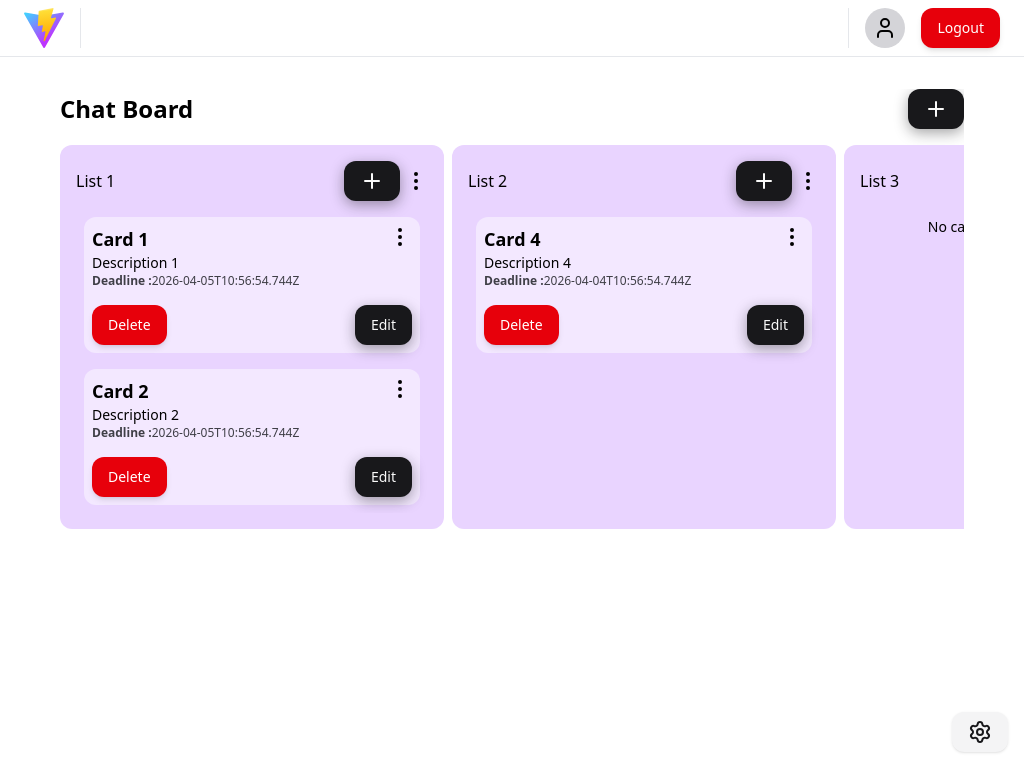
Test: Delete Content › Should delete the list
Expected: the heading "Chat Board" is shown, top-left (60, 93), bottom-right (193, 125)
Expected: the element named "Board Content" shows "List 1", top-left (76, 170), bottom-right (115, 192)
Click the button named "options" in the row of "List 1".
click(416, 181)  # box top-left (404, 161), bottom-right (428, 201)
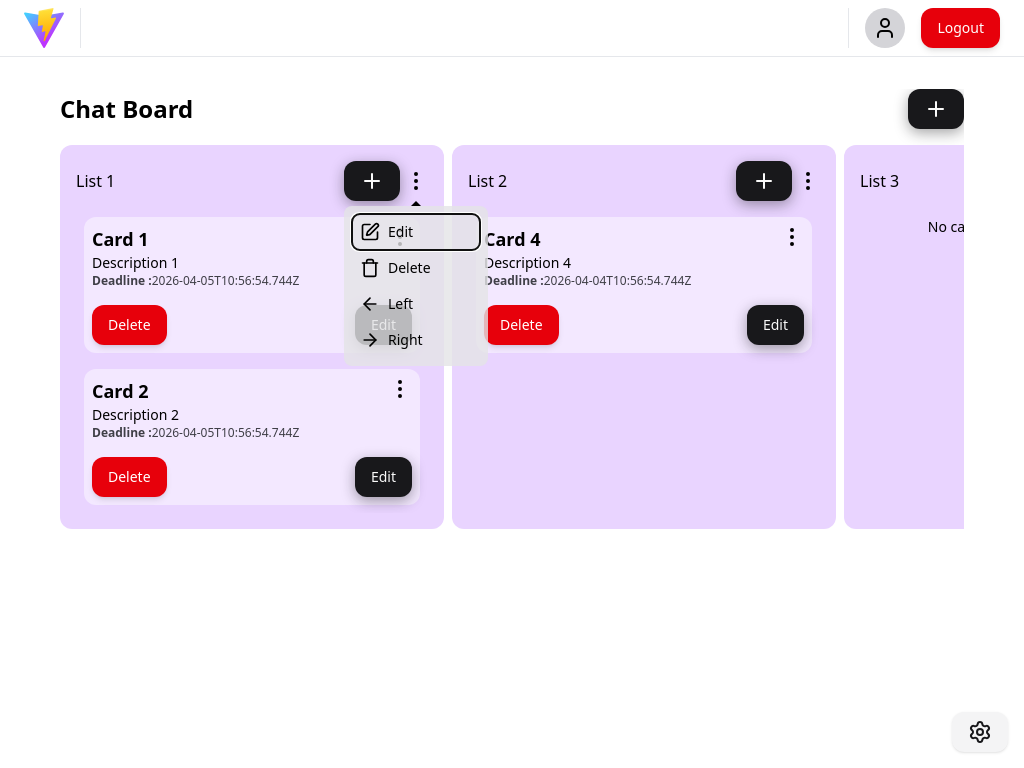
Click the 1st button "Delete".
click(416, 268)  # box top-left (352, 250), bottom-right (480, 286)
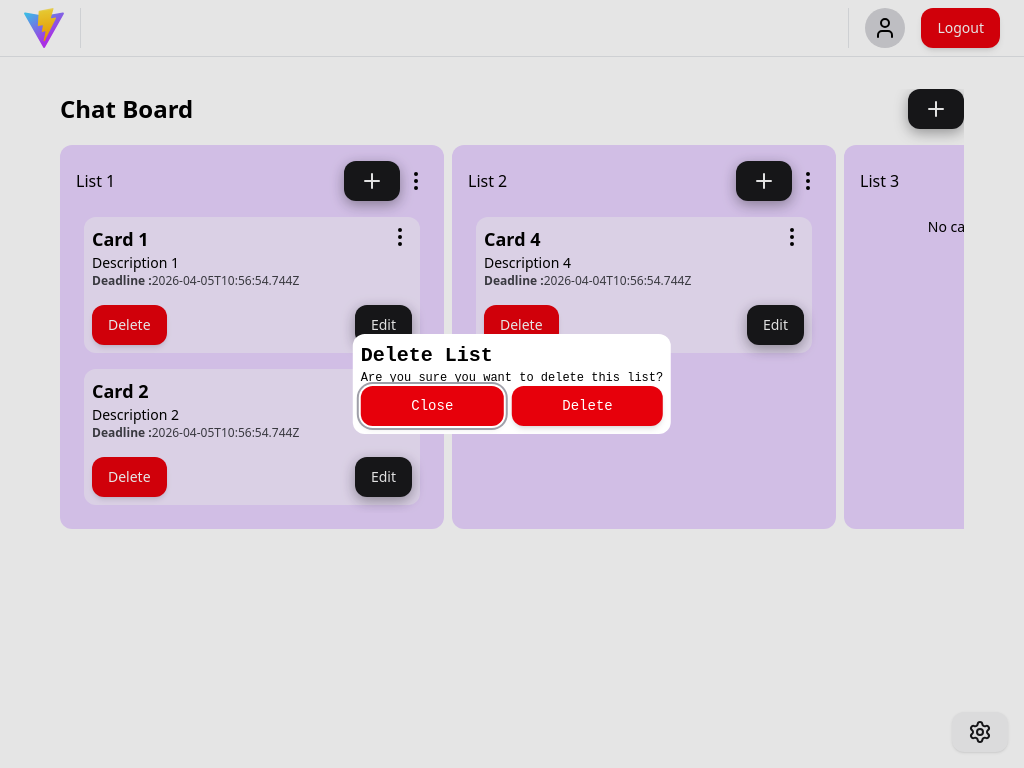
Click the button with aria-label "form-operation-button".
click(588, 406)  # box top-left (512, 386), bottom-right (663, 426)
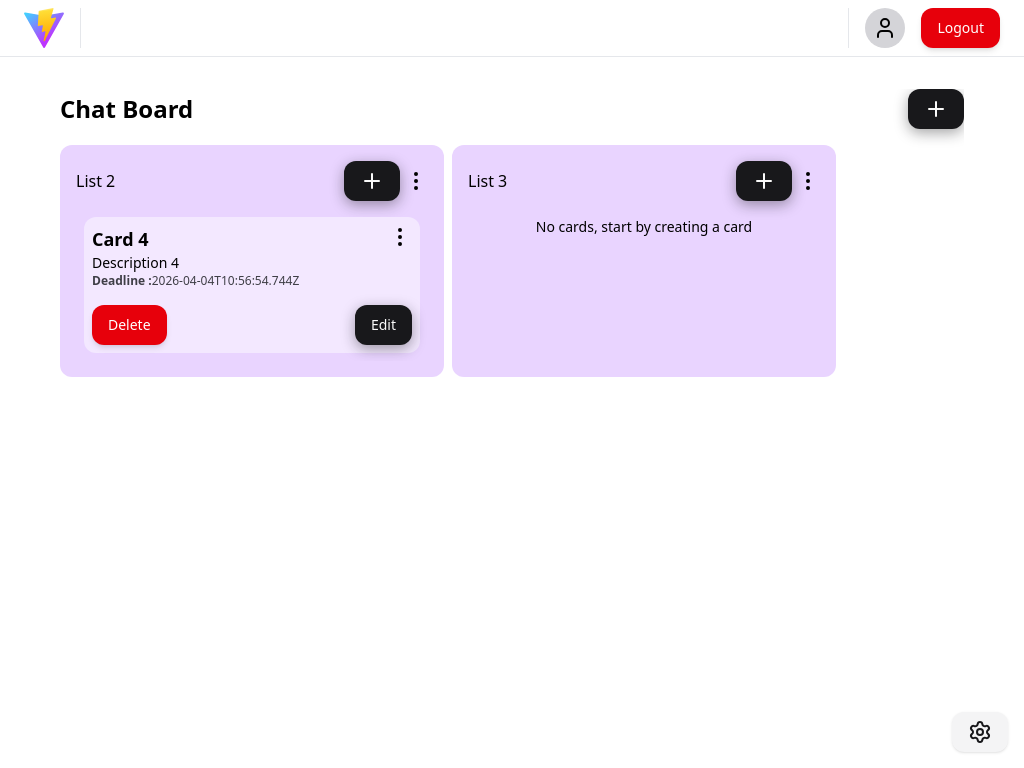
Result: the number of elements named "list-content" is 2 at top-left (60, 145), bottom-right (444, 377); top-left (452, 145), bottom-right (836, 377)
